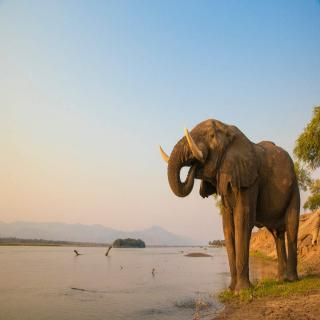Elephant: (156, 113, 304, 298)
